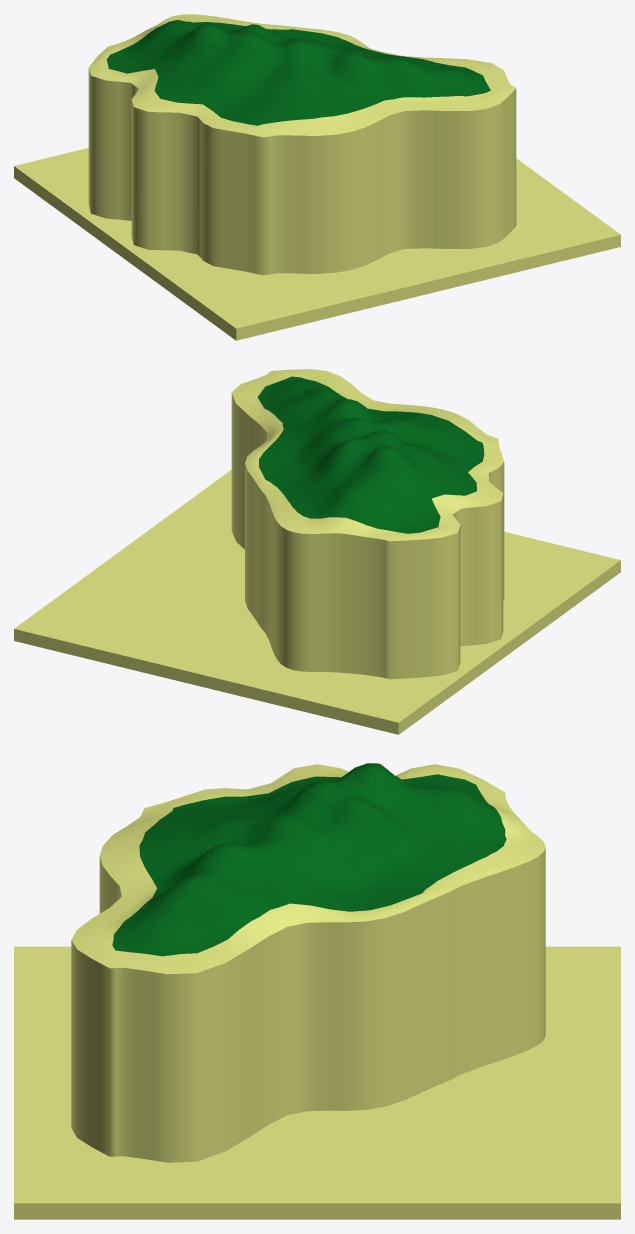
File: Wild_Big_Island_01.fbx
3 renders of one model, top to bottom at view 1: azimuth 30°, elevation 25°; view 2: azimuth 150°, elevation 25°; view 3: azimuth 270°, elevation 25°, orthographic. The views are drawn at different scales.
Parts seen in each view (by area): view 1: Wild_Big_Island_01; view 2: Wild_Big_Island_01; view 3: Wild_Big_Island_01.
Boxes of the visible parts, box(x1,y1,x2,y2) form: Wild_Big_Island_01: box(14, 14, 620, 340); Wild_Big_Island_01: box(14, 369, 620, 734); Wild_Big_Island_01: box(14, 763, 620, 1219).
Bounding box in the file's own units: 136 × 65.8 × 136.
